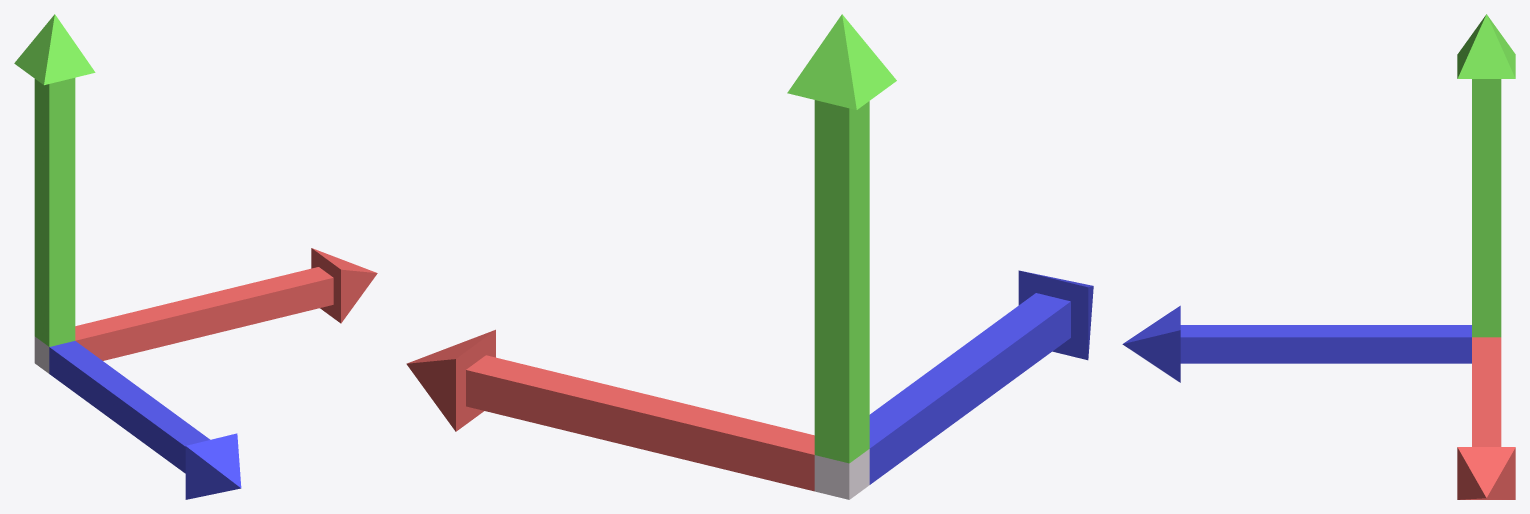
Rendered from axis.gltf.
3 renders of one model, left to right at view 1: azimuth 30°, elevation 25°; view 2: azimuth 150°, elevation 25°; view 3: azimuth 270°, elevation 25°, orthographic. The views are drawn at different scales.
Parts seen in each view (by area): view 1: Cube; view 2: Cube; view 3: Cube.
Boxes of the visible parts, <box> form: Cube: <box>14,14,377,499</box>; Cube: <box>406,14,1093,499</box>; Cube: <box>1122,14,1515,499</box>.
Size of the model in its own units: 2.7 by 2.7 by 2.7.
Materials: 4 (4 with a texture image).
